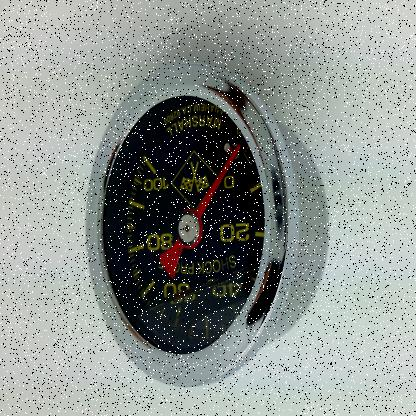needle: (195, 142, 242, 217)
